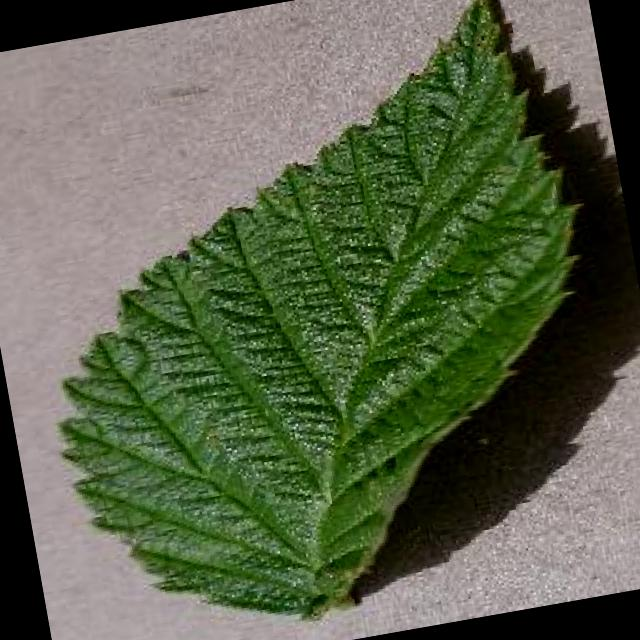healthy: (62, 0, 575, 615)
